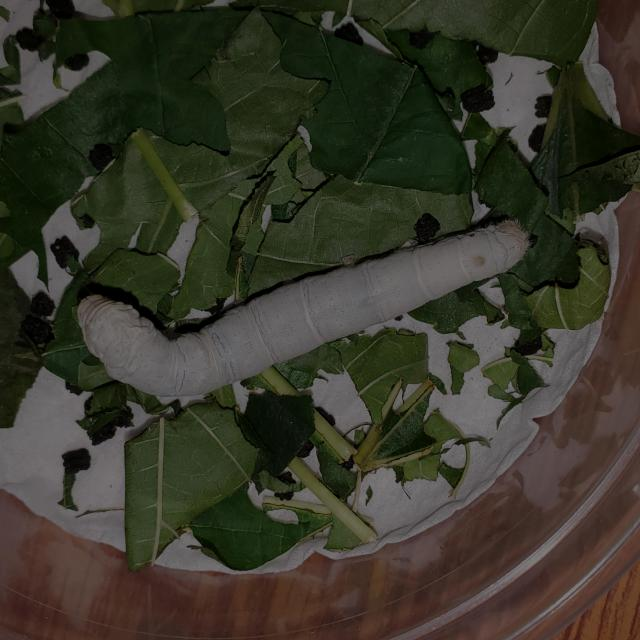Healthy: (72, 213, 535, 404)
